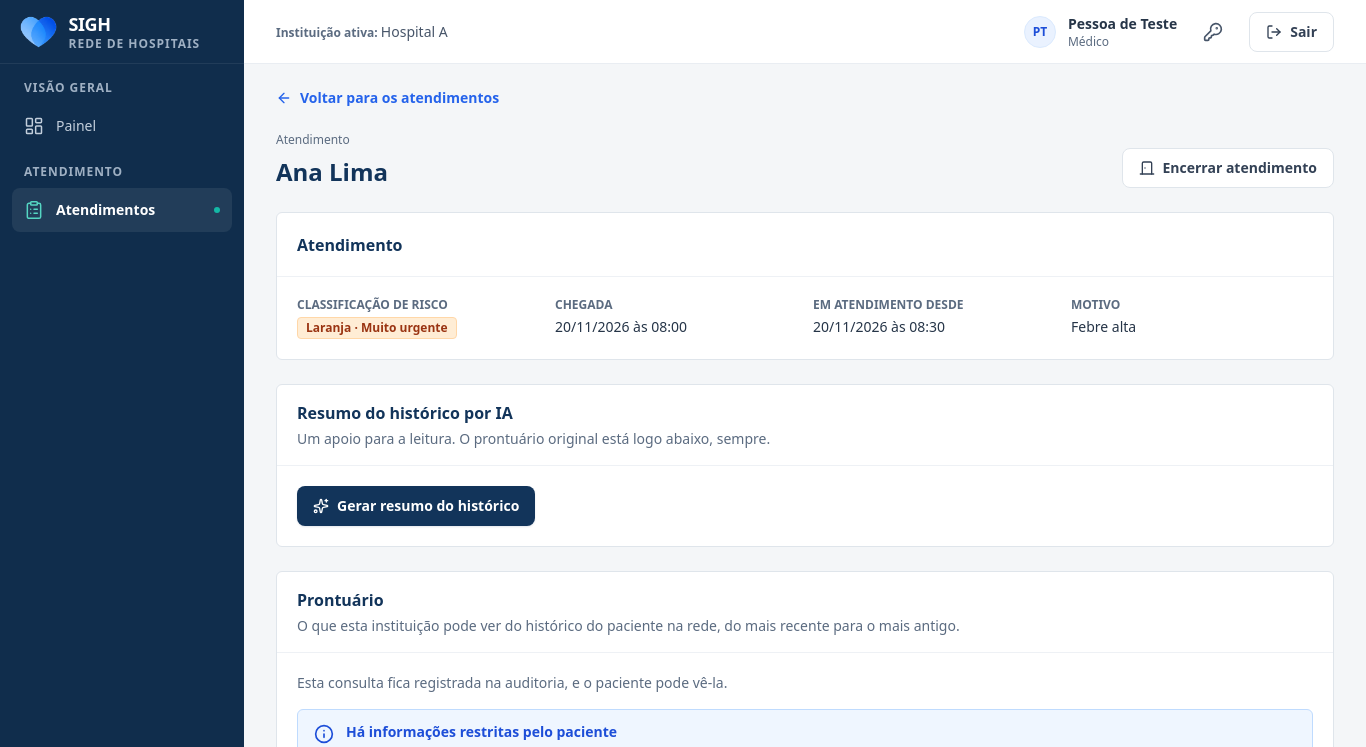
Test case: FE-07: resumo por IA (RF-004) › sem histórico para resumir (422): diz isso, sem tom de erro
Click the button "Gerar resumo do histórico": (416, 506) [297,486,535,526]
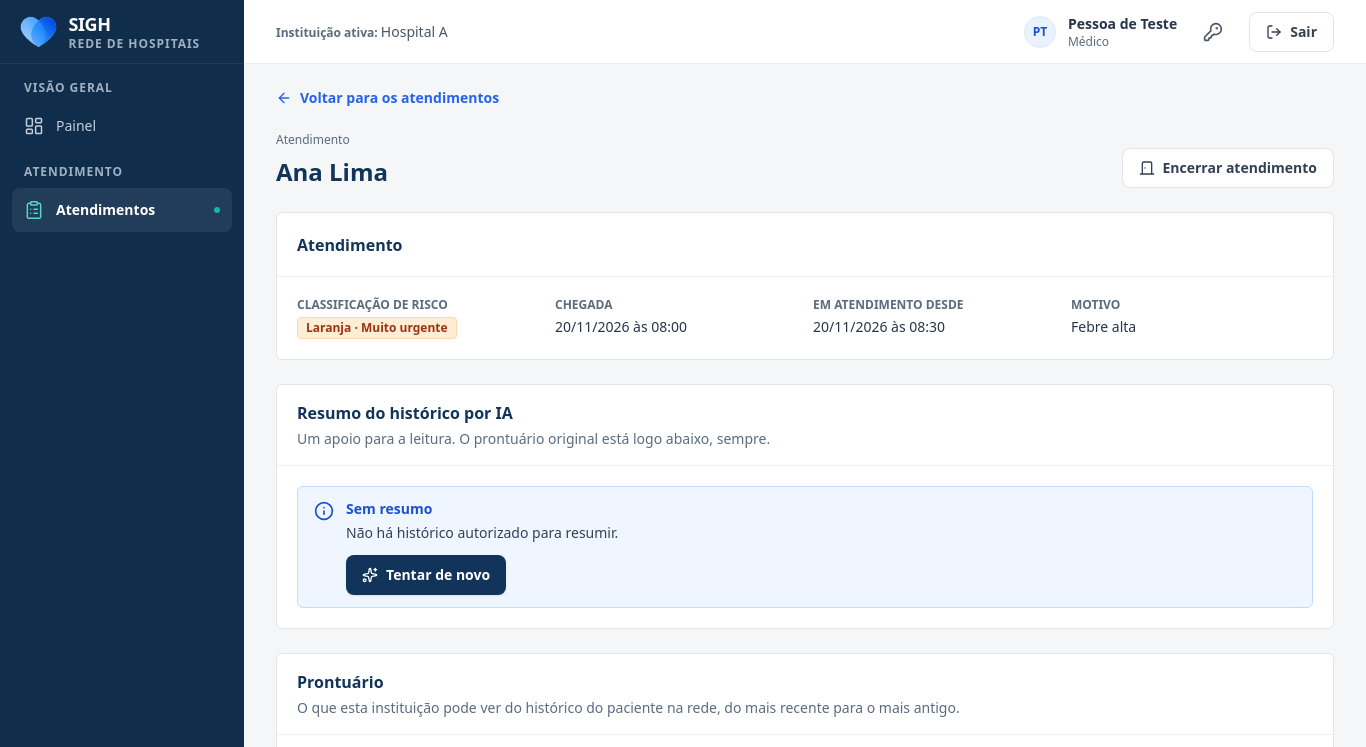
Result: the text "Não há histórico autorizado para resumir." is shown at [346,523,618,542]
Result: the text "Sem resumo" is shown at [346,499,432,518]
